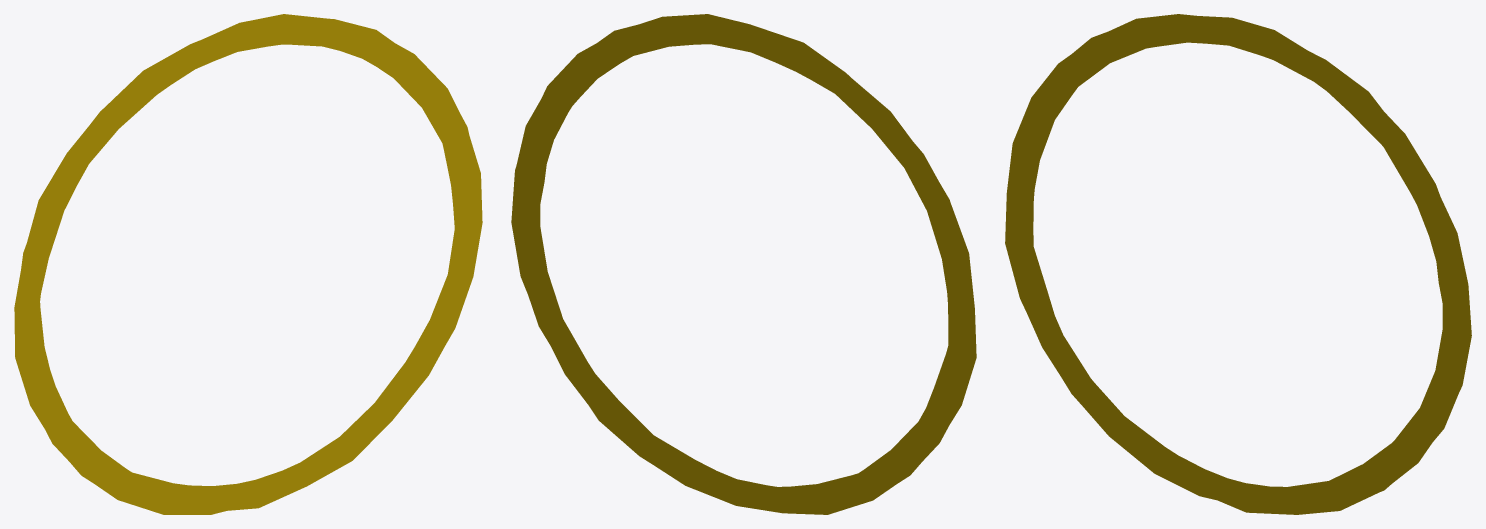
Rendered from original_13.obj.
3 views of the same model, side by side, from view 1: azimuth 30°, elevation 25°; view 2: azimuth 150°, elevation 25°; view 3: azimuth 330°, elevation 25° (orthographic).
Parts seen in each view (by area): view 1: #ID71; view 2: #ID71; view 3: #ID71.
Part boxes in pixels (<box>): #ID71: <box>14,14,482,514</box>; #ID71: <box>511,14,976,514</box>; #ID71: <box>1005,14,1471,514</box>.
Size of the model in its own units: 0.0285 by 0.0285 by 0.000449.
